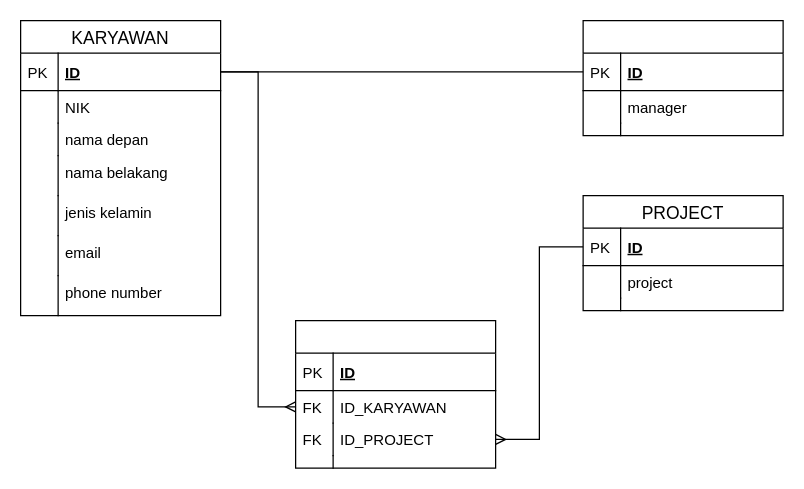
The diagram is 804 pixels wide and 489 high, and some of its shapes have lost their labels. Here are the shapes that lost their labels. From the top down, the box of each, then its label:
(582, 19, 783, 136): Departemen
(294, 319, 496, 468): KARYAWAN_PROJECT
